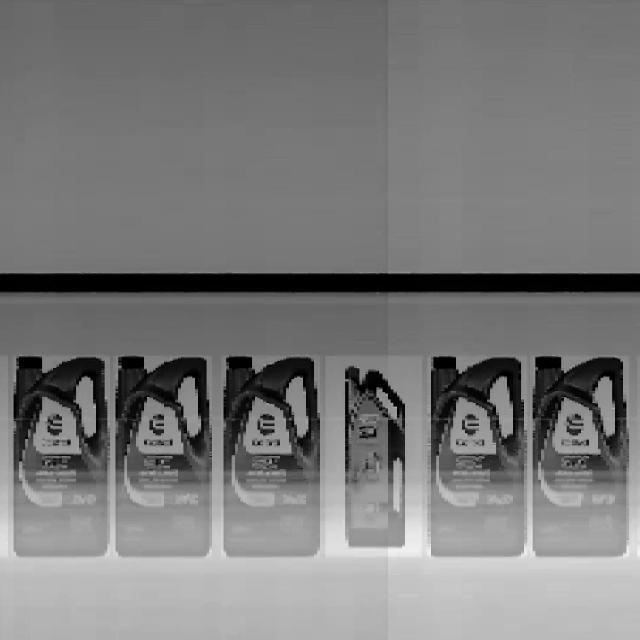motor_oil: (222, 350, 320, 563), (428, 352, 526, 563), (10, 350, 110, 556), (114, 352, 213, 560), (531, 355, 631, 556), (342, 364, 408, 554)
